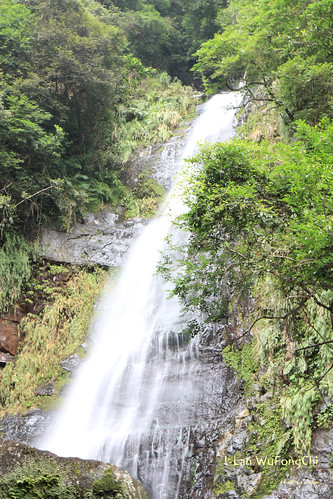wufengciWaterfall: (59, 68, 239, 456)
